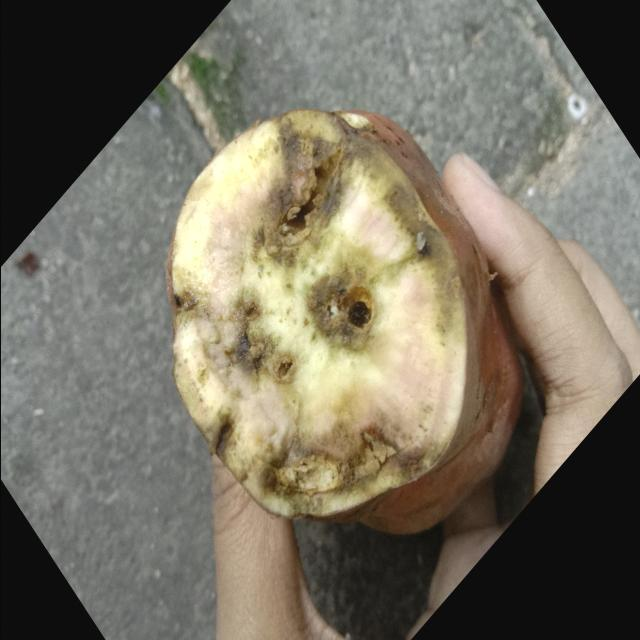Sick Sweet Potato_Tuber Rot: (168, 110, 488, 532)
